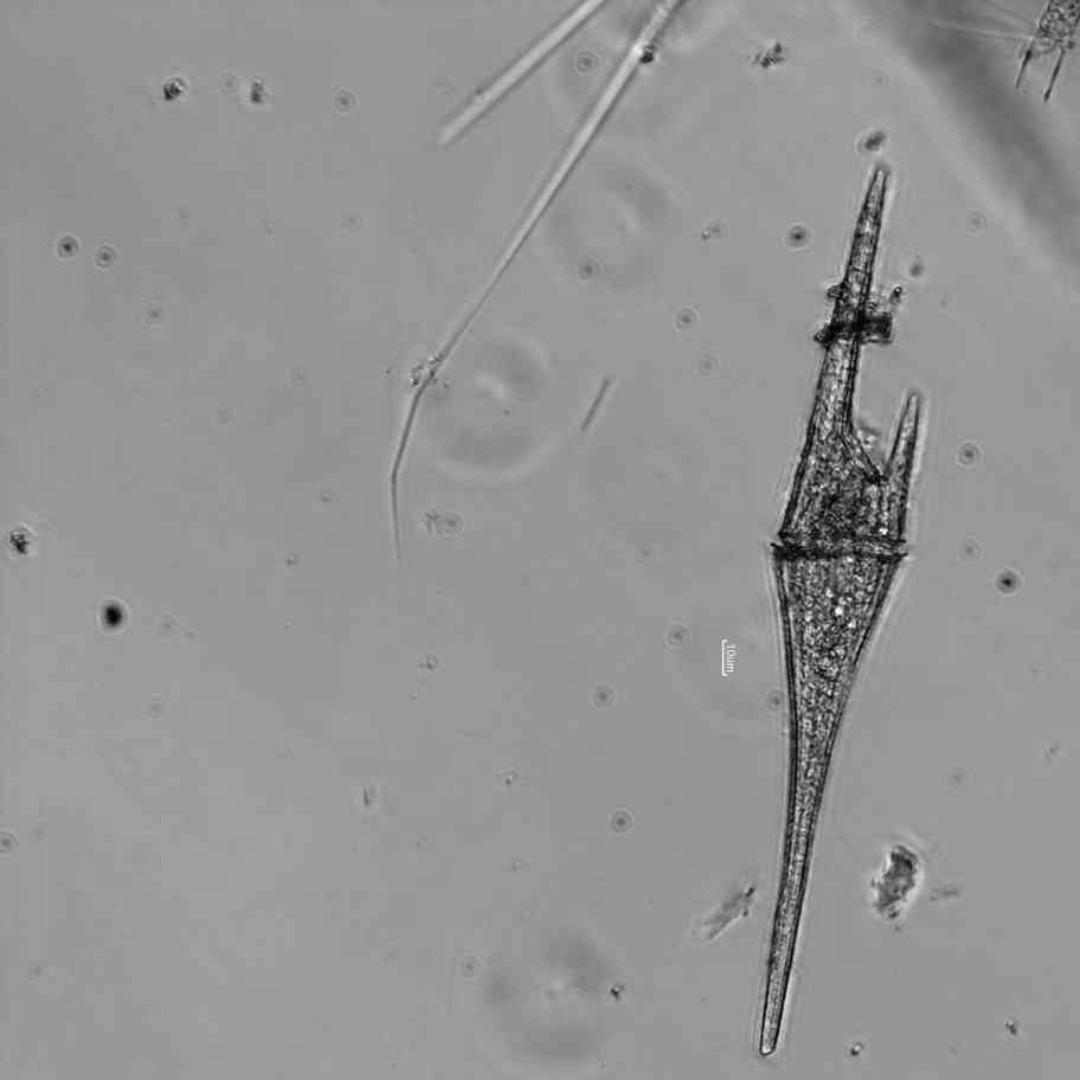ceratium_furca: (761, 169, 920, 1060)
